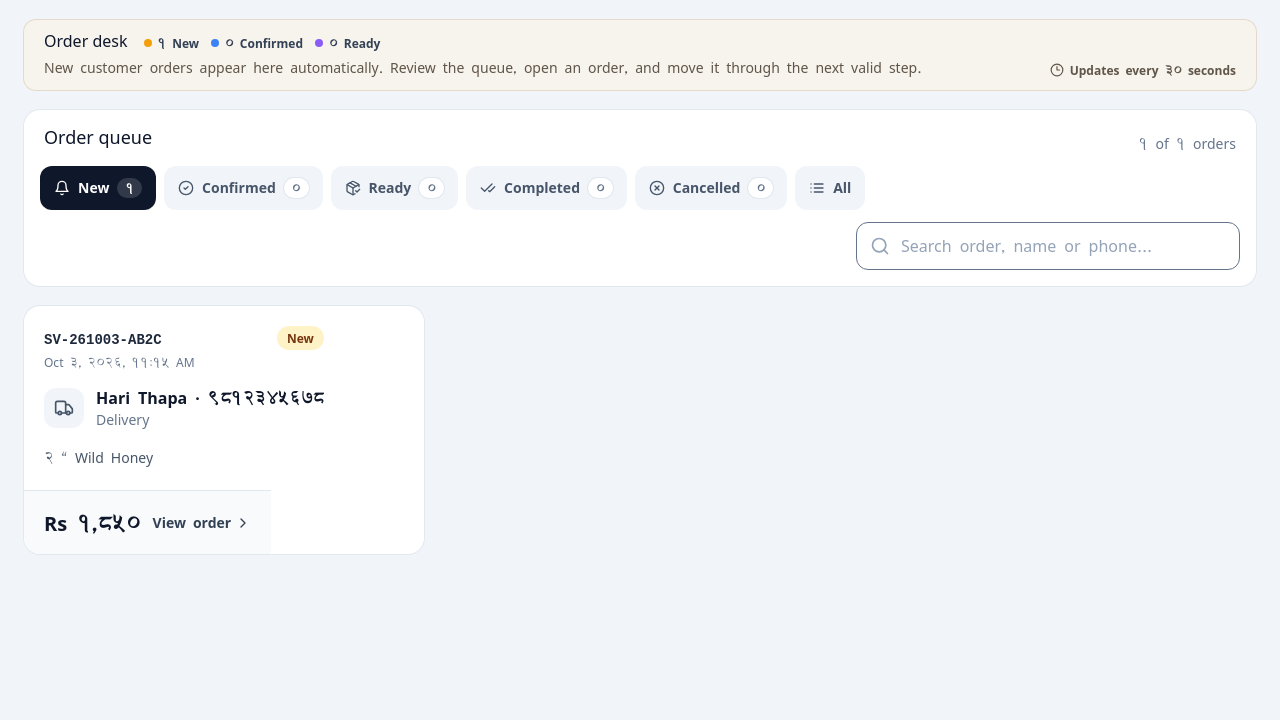
OnlineOrdersPage › focuses the order sheet, closes it with Escape, and returns focus to the order
This screenshot has width=1280, height=720.
Click the button with test id "order-row".
click(103, 340)  # box [24,306,424,554]
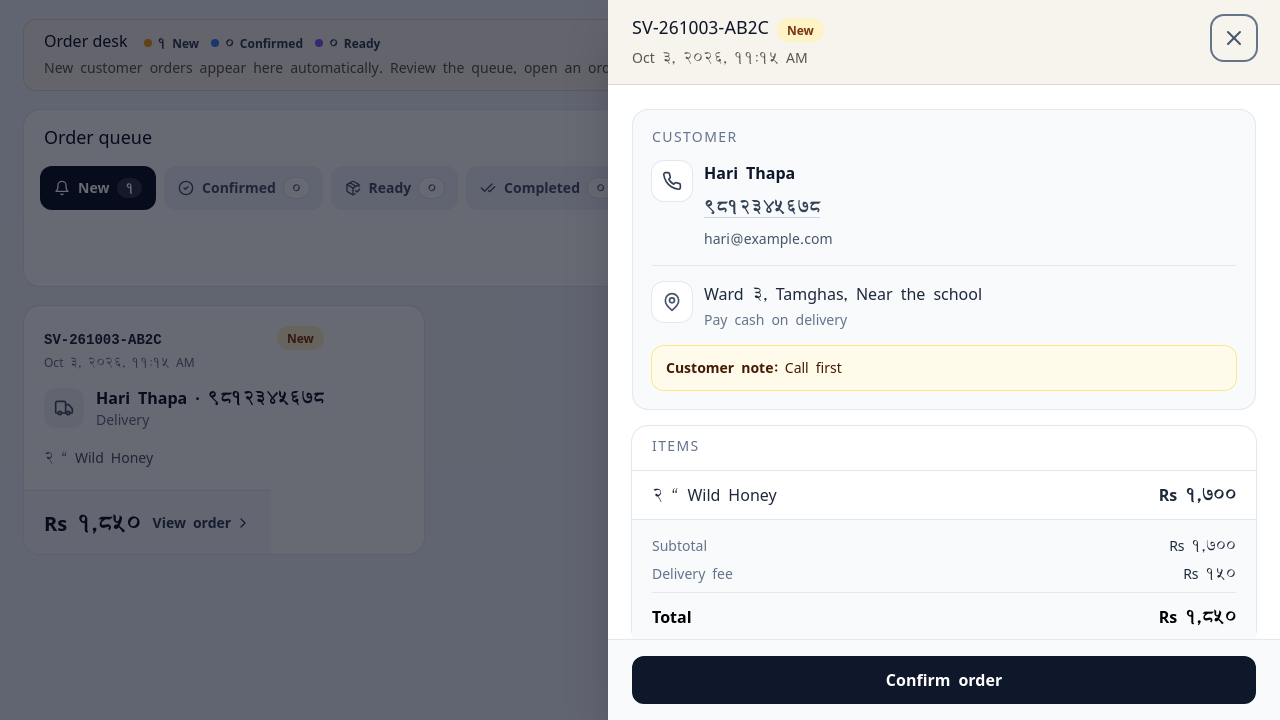
Press Escape
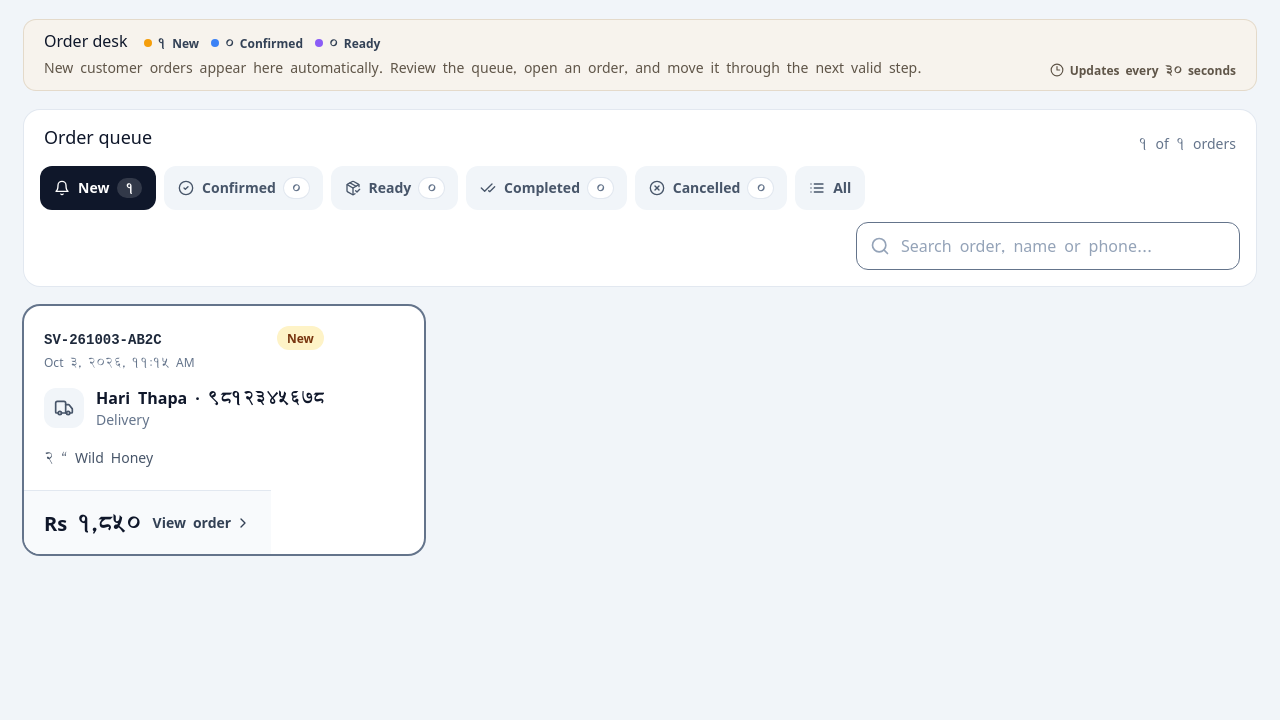
expect the dialog is gone: met
